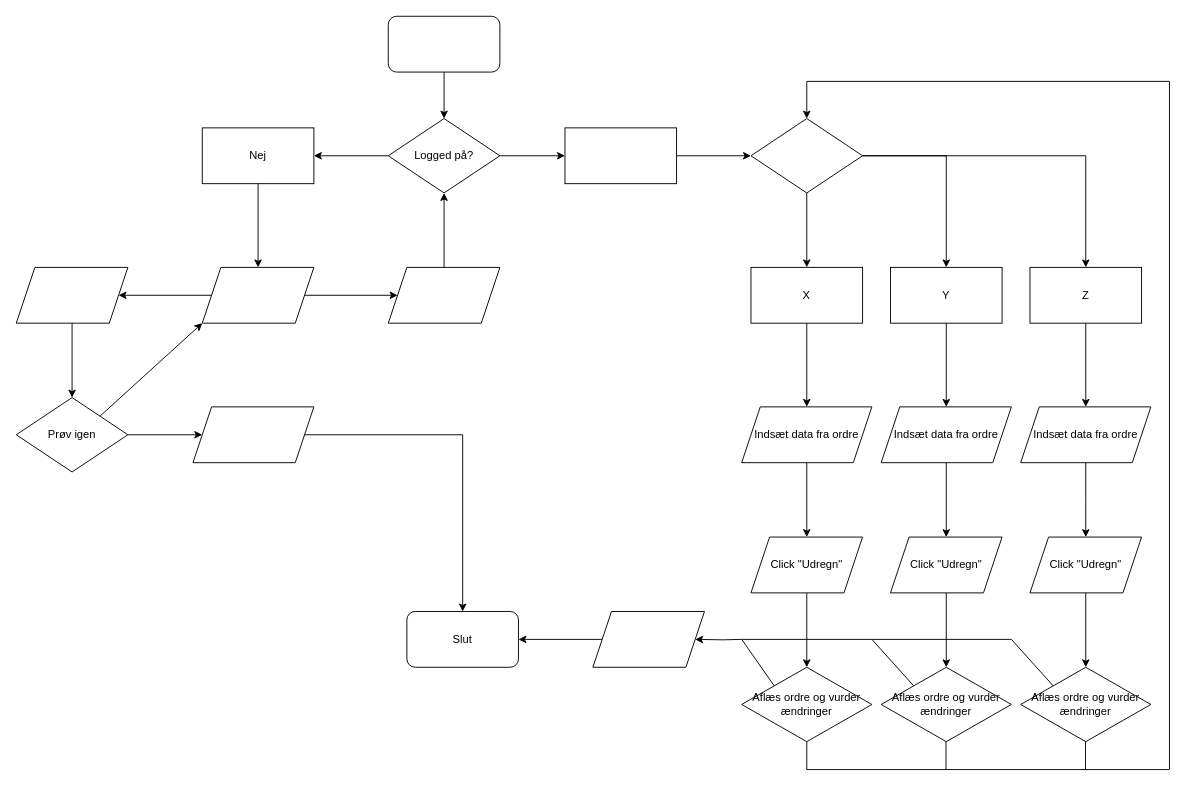
Some shapes in this 1187 by 787 pixel diagram are drawn without their labels. Each missing label, with the centre of its shape:
"Fejlagtig log in": [71,294]
"Ring til it-service": [253,434]
"Succesful log in": [443,294]
Index: [443,43]
Ja: [620,155]
Log in: [257,294]
Udskriv plan: [648,639]
Vælg relevant udregner: [806,155]
